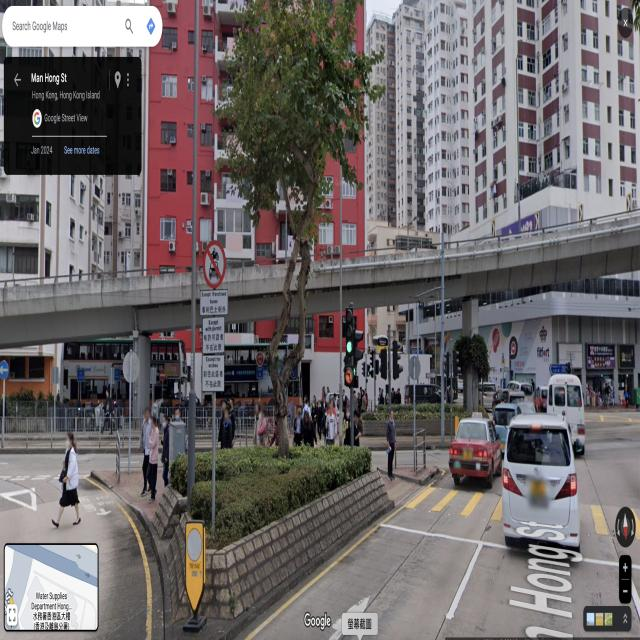Direction-Sign: (549, 364, 567, 374)
Order-Sign: (203, 240, 226, 288), (202, 355, 224, 389), (200, 290, 228, 316), (203, 319, 224, 353), (0, 358, 9, 380)
